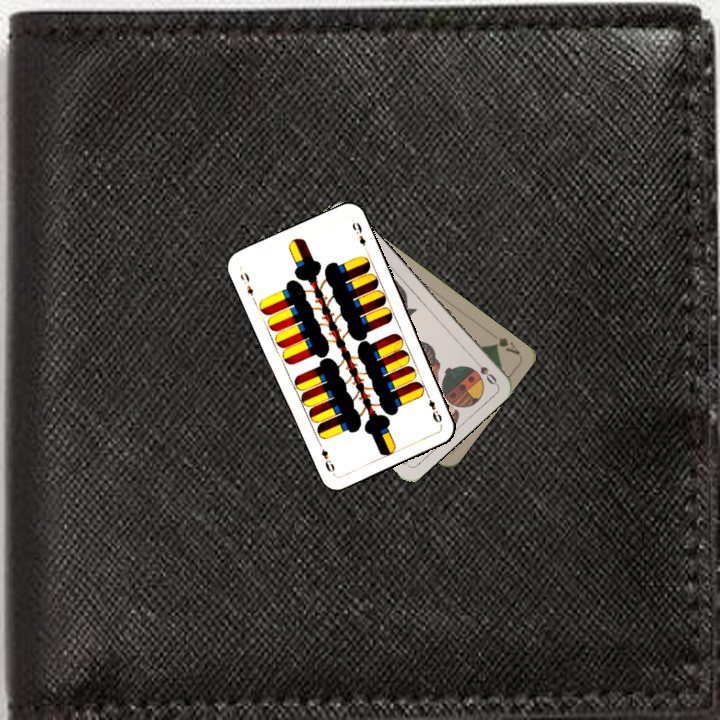E9: (422, 389, 444, 425), (236, 268, 258, 304)
GA: (490, 333, 522, 357)
SO: (468, 354, 500, 388)
